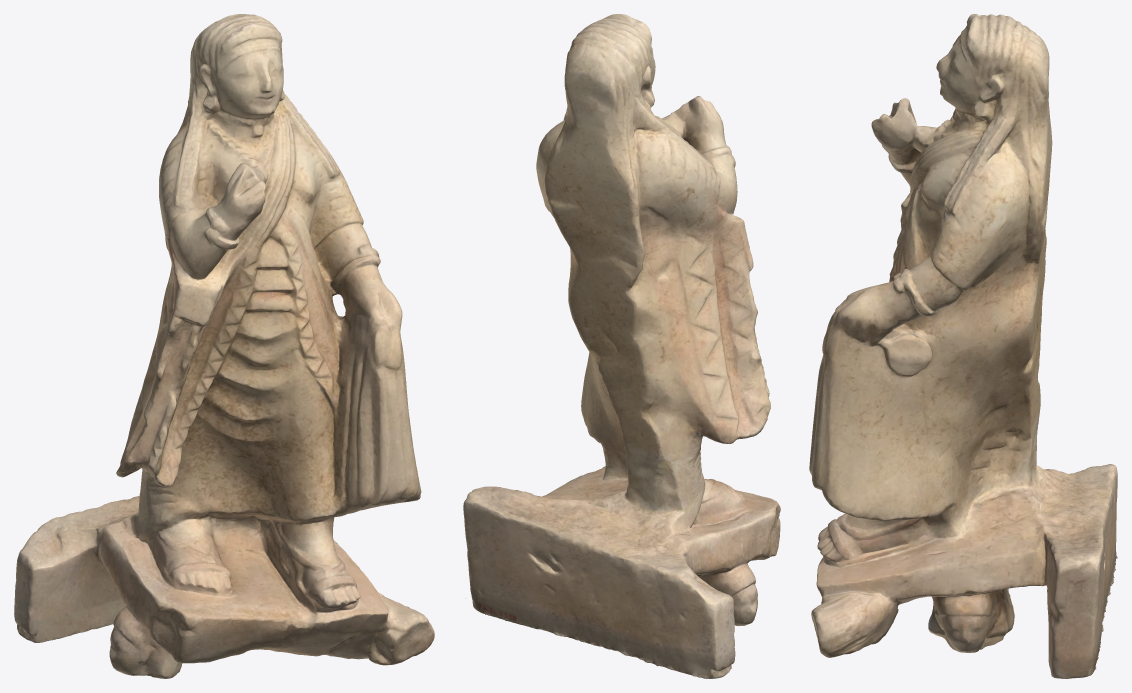
Rendered from preview.glb.
The picture shows the model from 3 angles, left to right: view 1: azimuth 30°, elevation 25°; view 2: azimuth 150°, elevation 25°; view 3: azimuth 270°, elevation 25°; orthographic projection. The views are drawn at different scales.
Parts seen in each view (by area): view 1: ADVIMG_74_51_2558_LimestoneFigureWoman_7M_n3d; view 2: ADVIMG_74_51_2558_LimestoneFigureWoman_7M_n3d; view 3: ADVIMG_74_51_2558_LimestoneFigureWoman_7M_n3d.
Boxes of the visible parts, bbox=[...] form: ADVIMG_74_51_2558_LimestoneFigureWoman_7M_n3d: bbox=[14, 14, 434, 678]; ADVIMG_74_51_2558_LimestoneFigureWoman_7M_n3d: bbox=[463, 14, 780, 678]; ADVIMG_74_51_2558_LimestoneFigureWoman_7M_n3d: bbox=[809, 14, 1117, 678].
Size of the model in its own units: 0.1198 by 0.2493 by 0.1138.
Materials: 1 (1 with a texture image).
